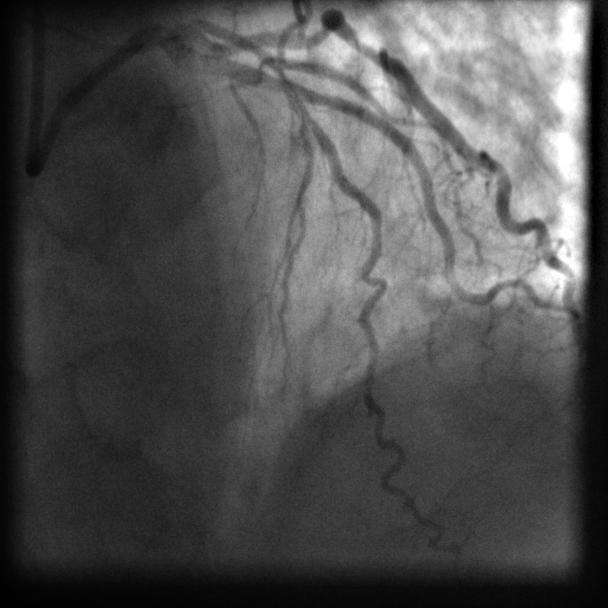Stenosis: (282, 69, 310, 122)
